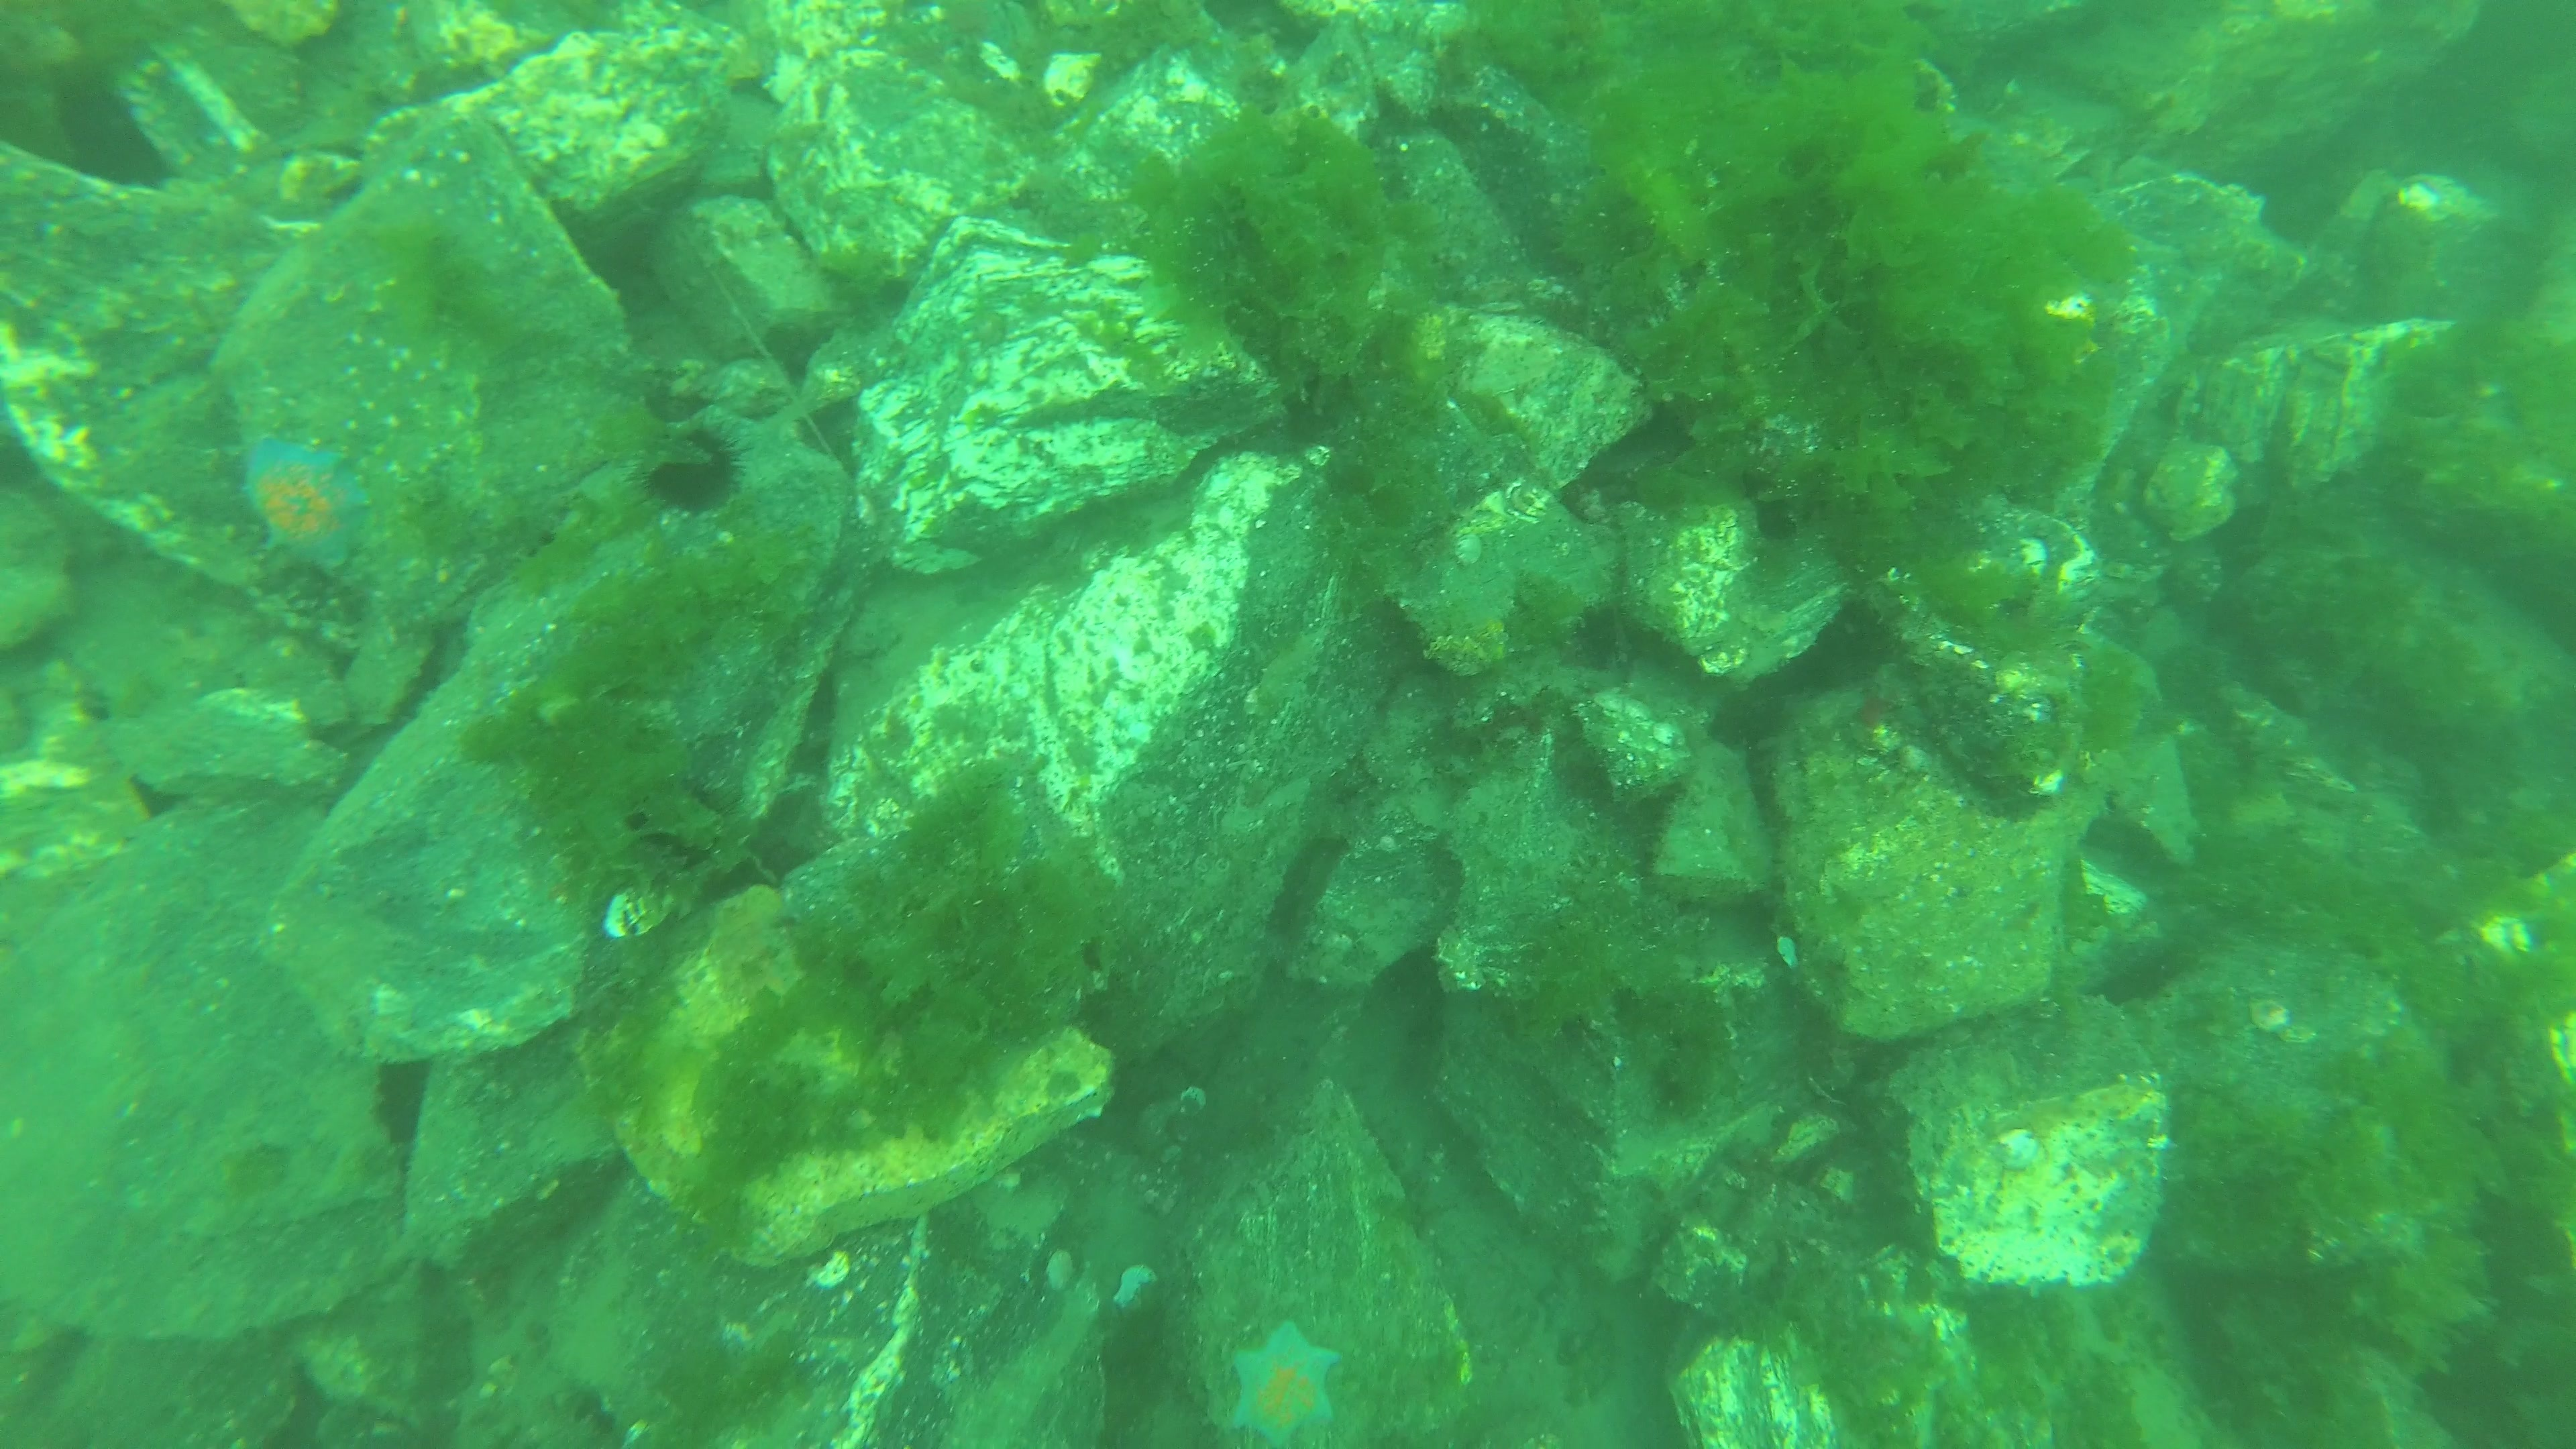echinus: (637, 421, 757, 524)
starfish: (239, 426, 379, 577), (1219, 1316, 1346, 1449)
